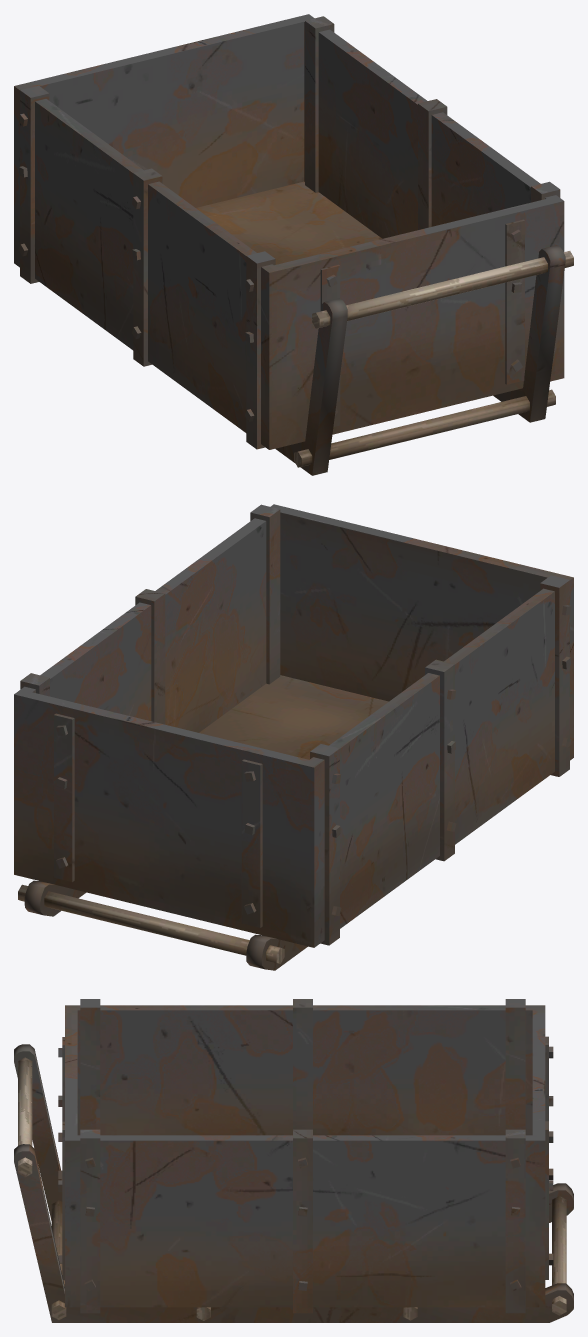
The model's file is oresled.glb.
3 renders of one model, top to bottom at view 1: azimuth 30°, elevation 25°; view 2: azimuth 150°, elevation 25°; view 3: azimuth 270°, elevation 25°, orthographic. The views are drawn at different scales.
Parts seen in each view (by area): view 1: oresled; view 2: oresled; view 3: oresled.
Part boxes in pixels (x1=…): oresled: x1=14, y1=14, x2=573, y2=475; oresled: x1=14, y1=504, x2=573, y2=970; oresled: x1=14, y1=999, x2=573, y2=1322.
Size of the model in its own units: 1.13 by 0.73 by 1.87.
Materials: 1 (1 with a texture image).
